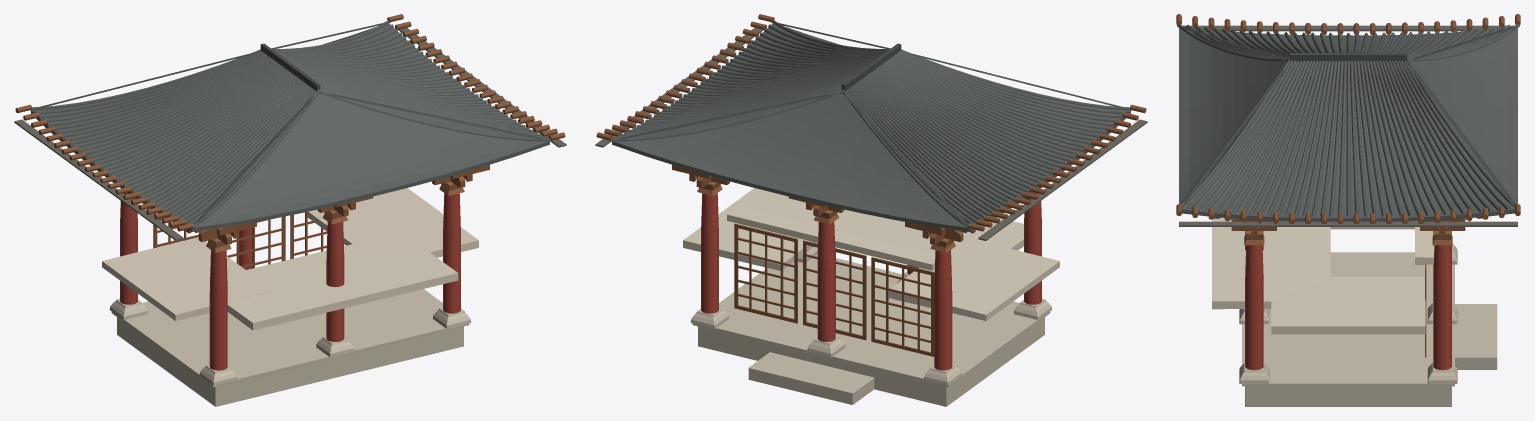
Rendered from hall-dadian.glb.
3 views of the same model, side by side, from view 1: azimuth 30°, elevation 25°; view 2: azimuth 150°, elevation 25°; view 3: azimuth 270°, elevation 25° (orthographic). The views are drawn at different scales.
Parts seen in each view (by area): view 1: hall_dadian; view 2: hall_dadian; view 3: hall_dadian.
Boxes of the visible parts, x1=… form: hall_dadian: x1=14, y1=14, x2=566, y2=406; hall_dadian: x1=595, y1=14, x2=1147, y2=406; hall_dadian: x1=1176, y1=14, x2=1520, y2=406.
Bounding box in the file's own units: 15.07 × 10.19 × 10.98.
